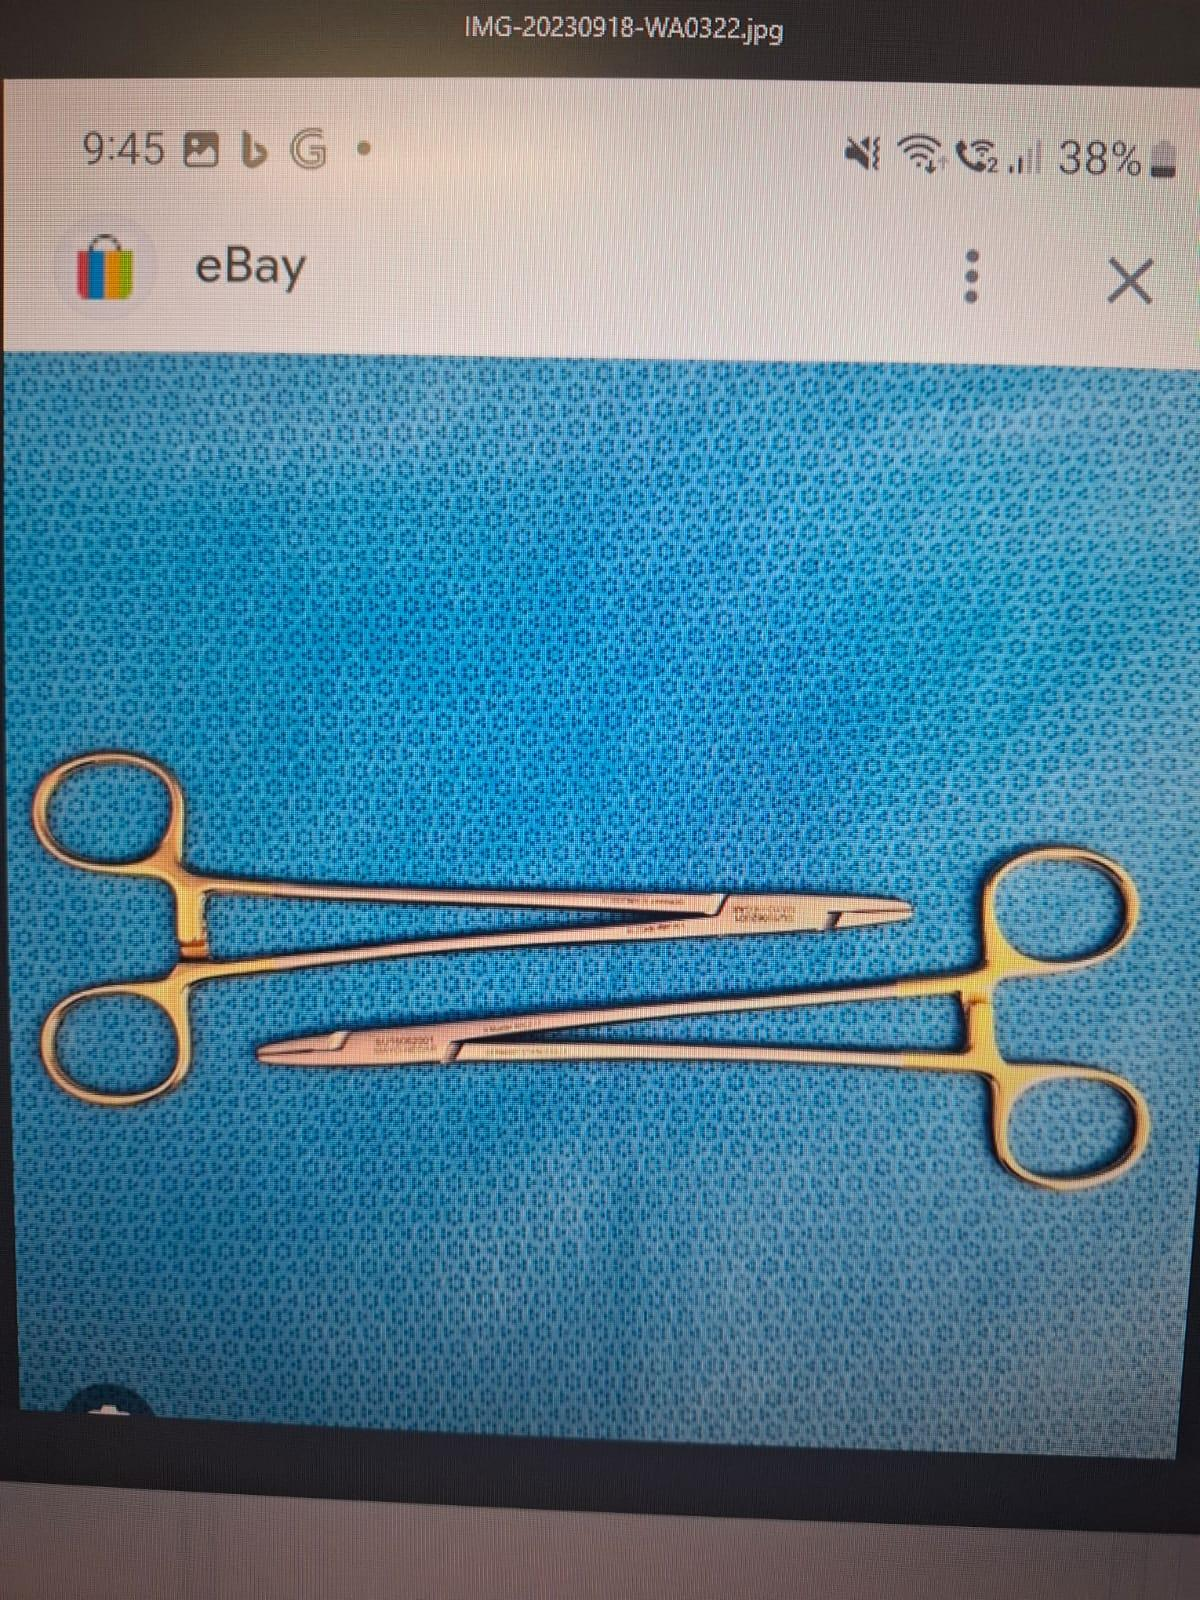Needle Holder: (20, 711, 920, 1123), (252, 835, 1145, 1209)
